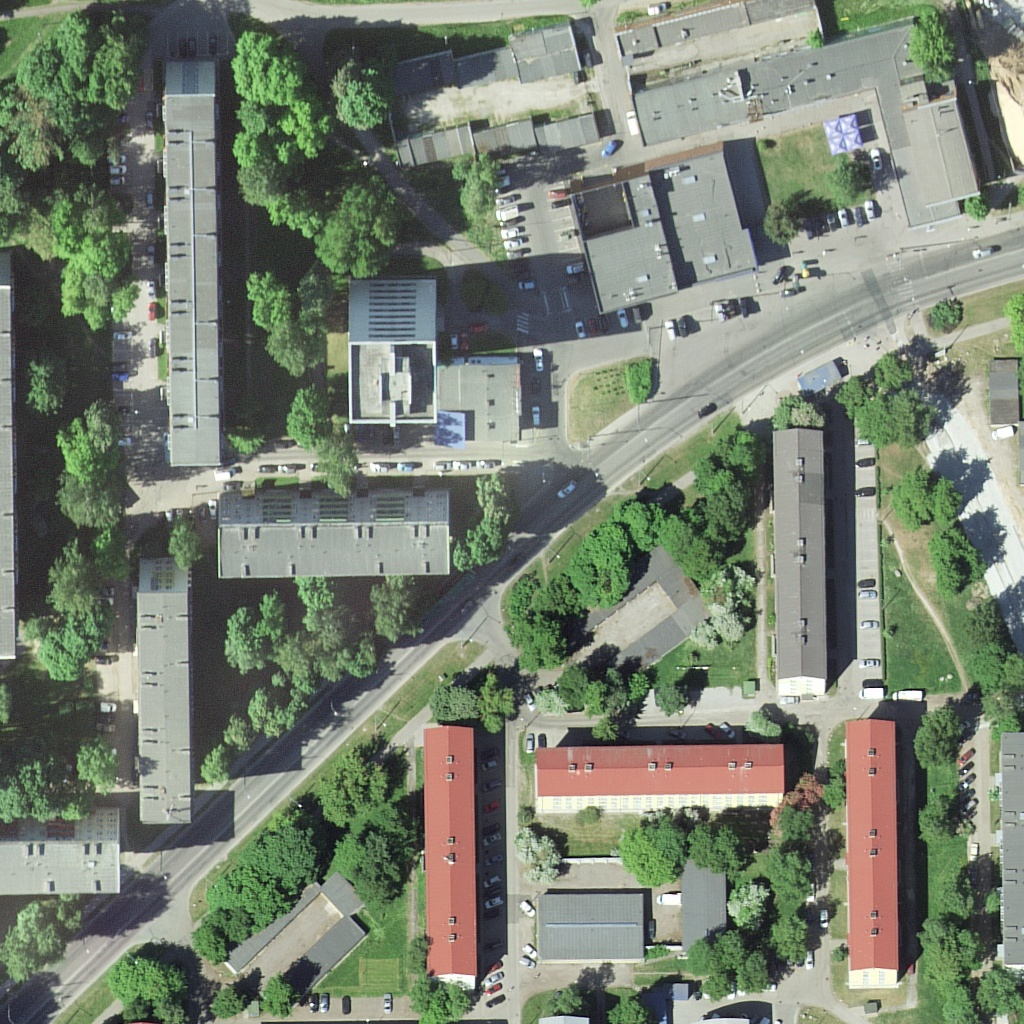building: (616, 5, 948, 146), (567, 149, 762, 310), (158, 56, 230, 483), (211, 489, 466, 585), (836, 717, 911, 1003), (888, 30, 987, 230), (130, 559, 199, 828), (421, 721, 486, 992), (531, 745, 785, 814), (767, 412, 826, 704), (340, 269, 442, 428), (235, 885, 379, 989), (586, 560, 711, 670), (394, 113, 602, 158), (440, 353, 532, 454), (530, 888, 653, 963), (679, 854, 731, 956), (515, 24, 588, 86), (990, 352, 1024, 425)
